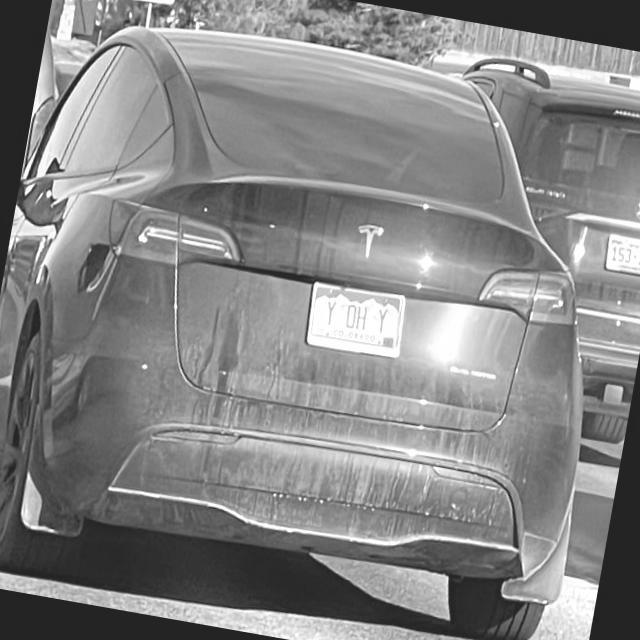LicensePlate: (305, 281, 406, 360)
